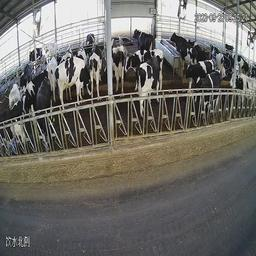cow: (53, 57, 93, 113), (137, 54, 166, 122), (35, 82, 61, 151), (0, 103, 26, 156), (195, 72, 224, 117), (229, 66, 255, 115), (179, 60, 223, 80), (112, 39, 126, 100), (172, 31, 197, 63), (132, 23, 154, 52), (123, 49, 140, 84), (23, 77, 35, 118)
